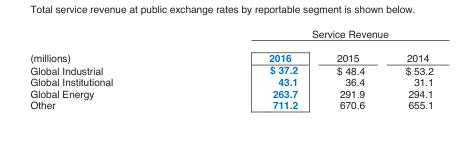table: (29, 29, 432, 110)
table column: (29, 29, 190, 110), (190, 29, 316, 110), (316, 29, 384, 110), (384, 29, 432, 110)
table column header: (29, 29, 432, 64)
table row: (29, 46, 432, 64), (29, 29, 432, 46), (29, 64, 432, 76), (29, 76, 432, 88), (29, 88, 432, 99), (29, 99, 432, 110)
table spanning cell: (29, 29, 190, 64), (190, 29, 432, 46)
